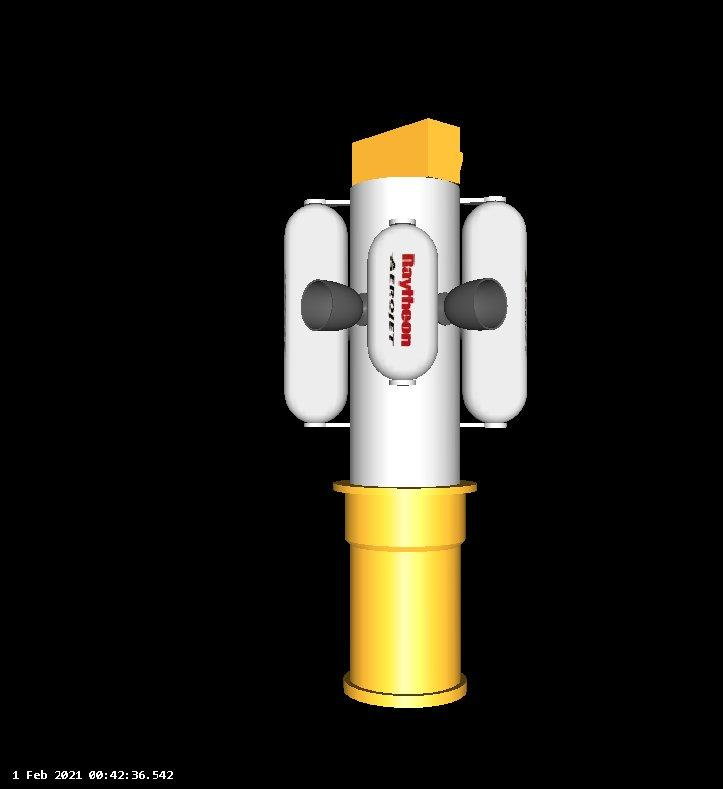body: (276, 116, 530, 496)
thruster: (342, 535, 471, 715), (296, 276, 366, 335), (443, 276, 511, 336)
